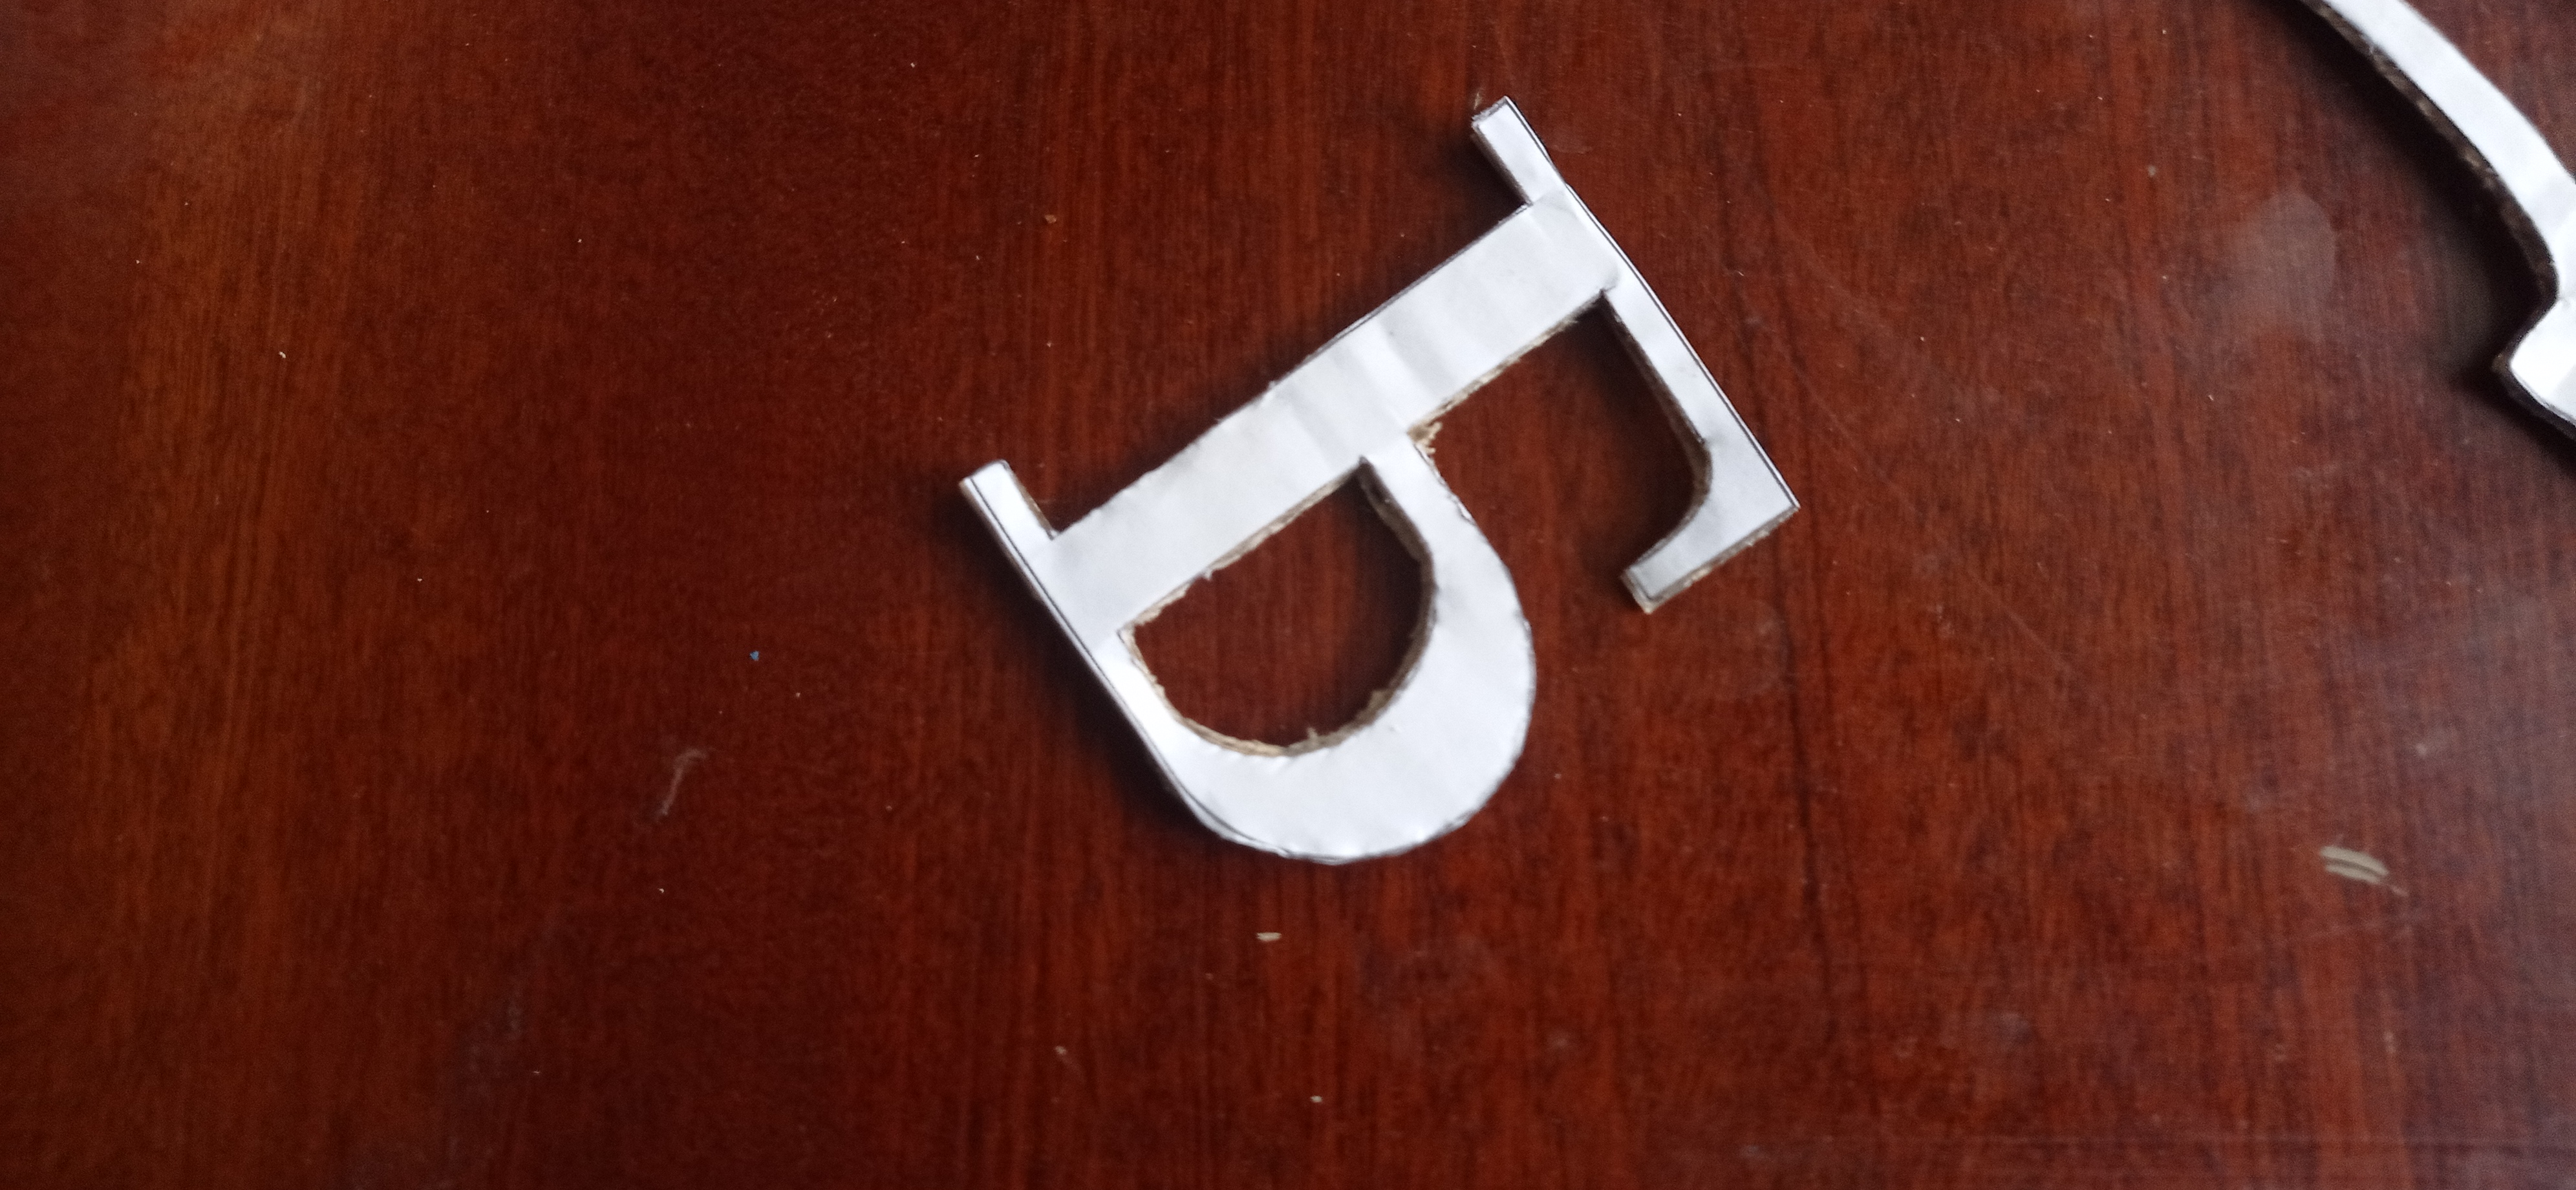b: (959, 95, 1802, 874)
